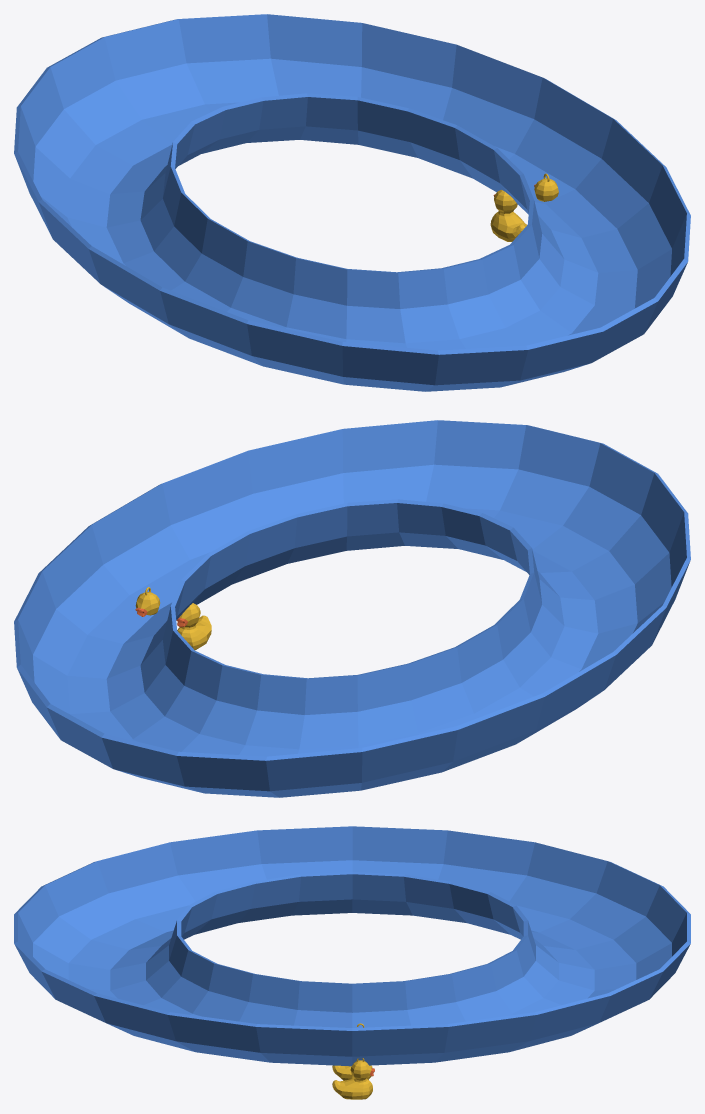
The model's file is BAQUET.fbx.
The picture shows the model from 3 angles, top to bottom: view 1: azimuth 30°, elevation 25°; view 2: azimuth 150°, elevation 25°; view 3: azimuth 270°, elevation 25°; orthographic projection. The views are drawn at different scales.
Parts seen in each view (by area): view 1: BAQUET, Rubber_Duck; view 2: BAQUET, Rubber_Duck; view 3: BAQUET, Rubber_Duck.002.
Part boxes in pixels (bbox=[...]): BAQUET: bbox=[14, 14, 690, 391]; Rubber_Duck: bbox=[490, 189, 526, 241]; BAQUET: bbox=[14, 420, 690, 797]; Rubber_Duck: bbox=[176, 603, 211, 650]; BAQUET: bbox=[14, 826, 690, 1066]; Rubber_Duck.002: bbox=[332, 1058, 374, 1099].
Bounding box in the file's own units: 215 × 36.34 × 301.
